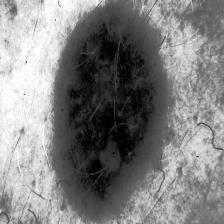Benign Marking or Mole: (53, 1, 168, 213)
